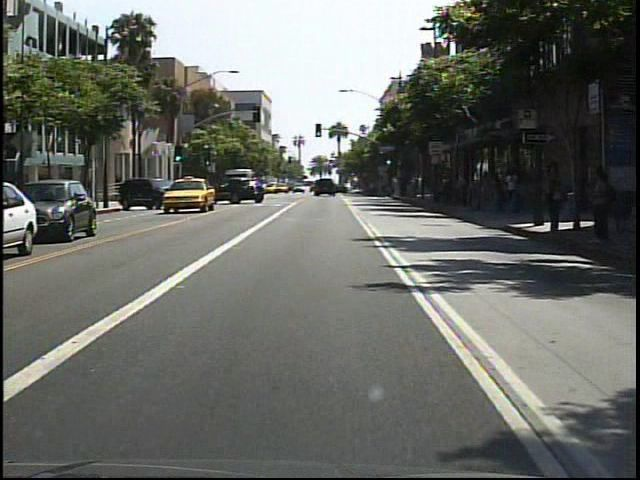person: (581, 165, 616, 245), (535, 159, 567, 238), (501, 167, 520, 212)
